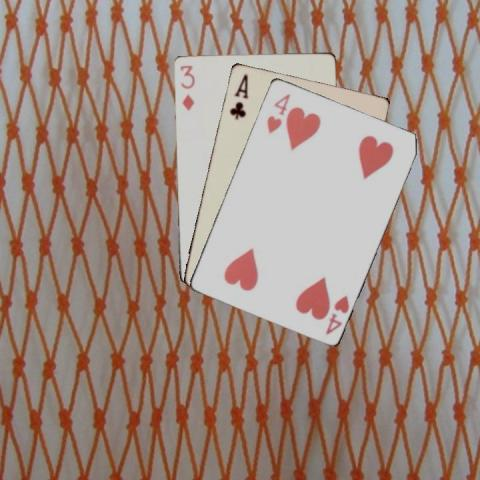3d: (177, 62, 196, 112)
4h: (322, 292, 351, 336), (264, 90, 292, 134)
Ac: (226, 70, 250, 121)
